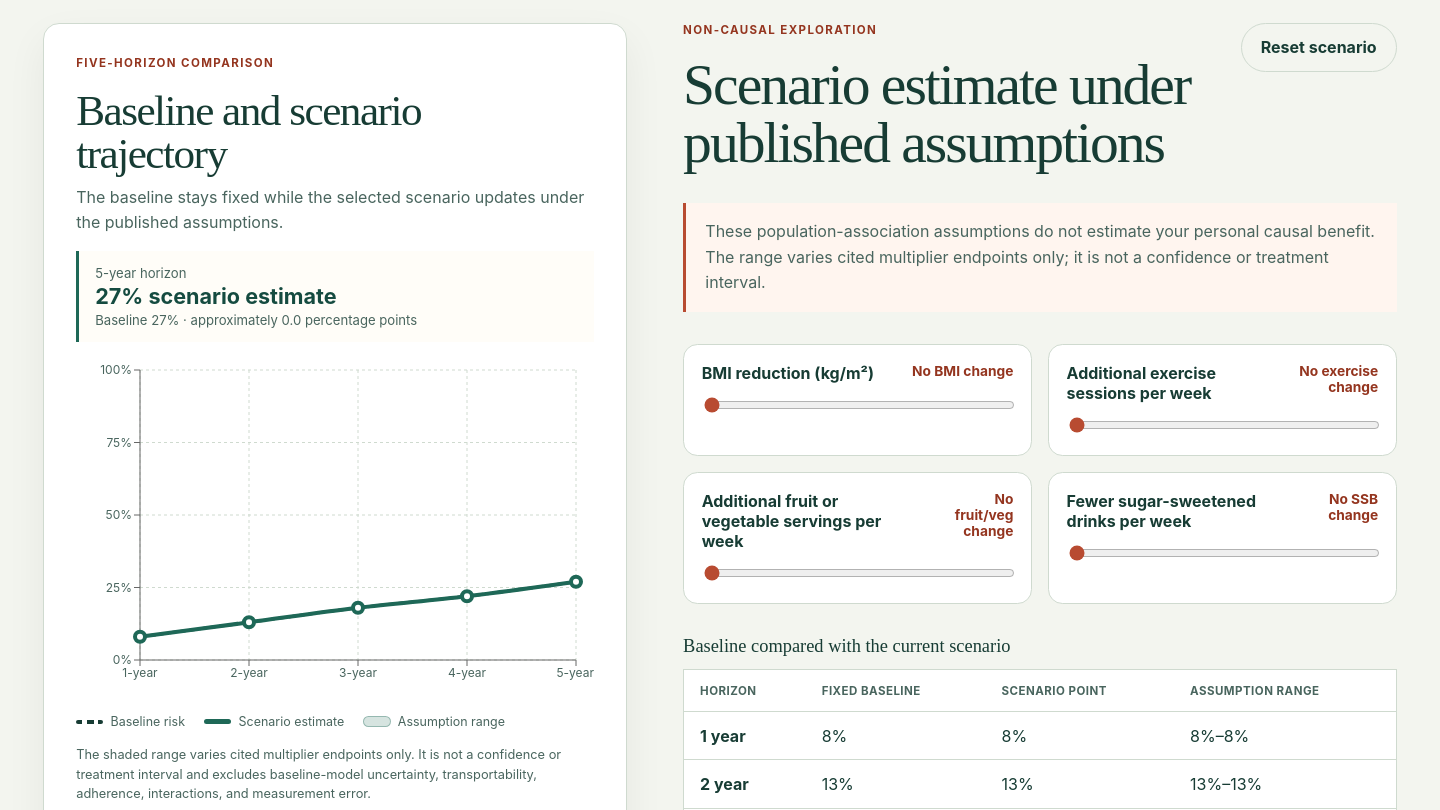
it: baseline result › explores local scenarios and exposes evidence-sensitive alternative ranks
The width and height of the screenshot is (1440, 810).
(page scrolled)
expect the heading "Scenario estimate under published assumptions" is shown: met, box [683,56,1201,171]
Set the slider labelled "BMI reduction (kg/m²)" to "1" at coordinates (860, 405), box [704,397,1015,413]
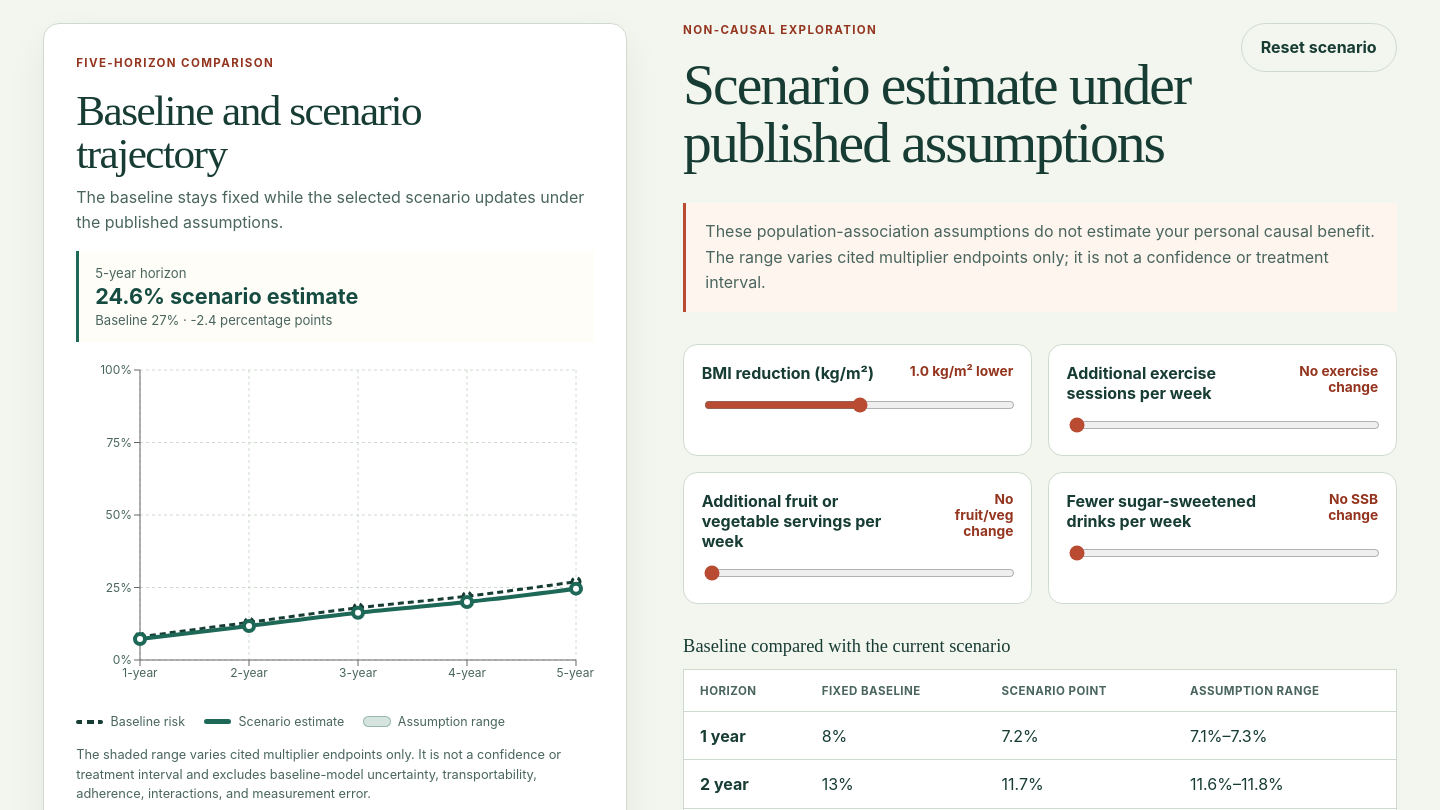
expect the text "1.0 kg/m² lower" is shown: met, box [910,363,1013,383]
Click the button "Reset scenario" at coordinates (1319, 47), box [1240,23,1397,72]
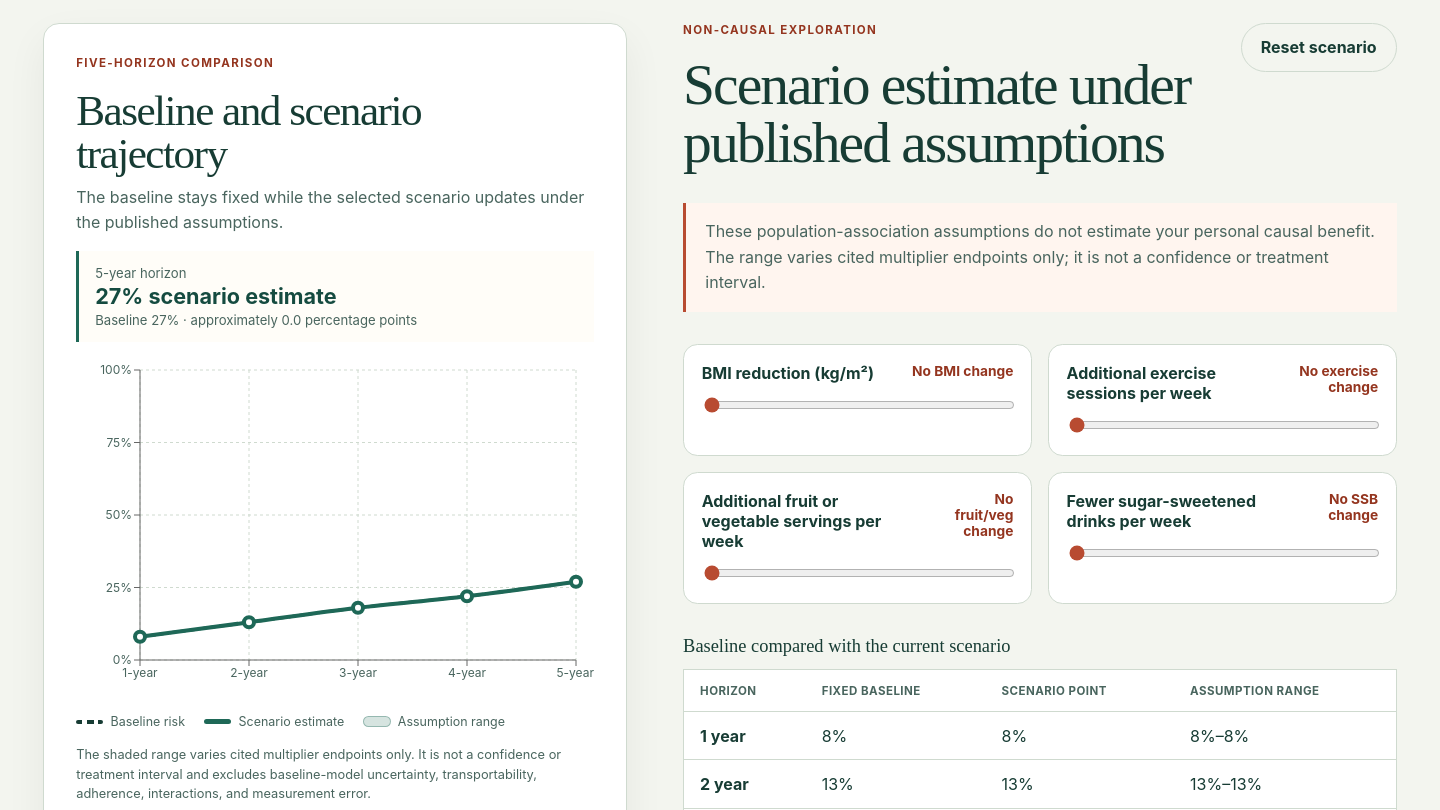
expect the text "No BMI change" is shown: met, box [912,363,1013,383]
